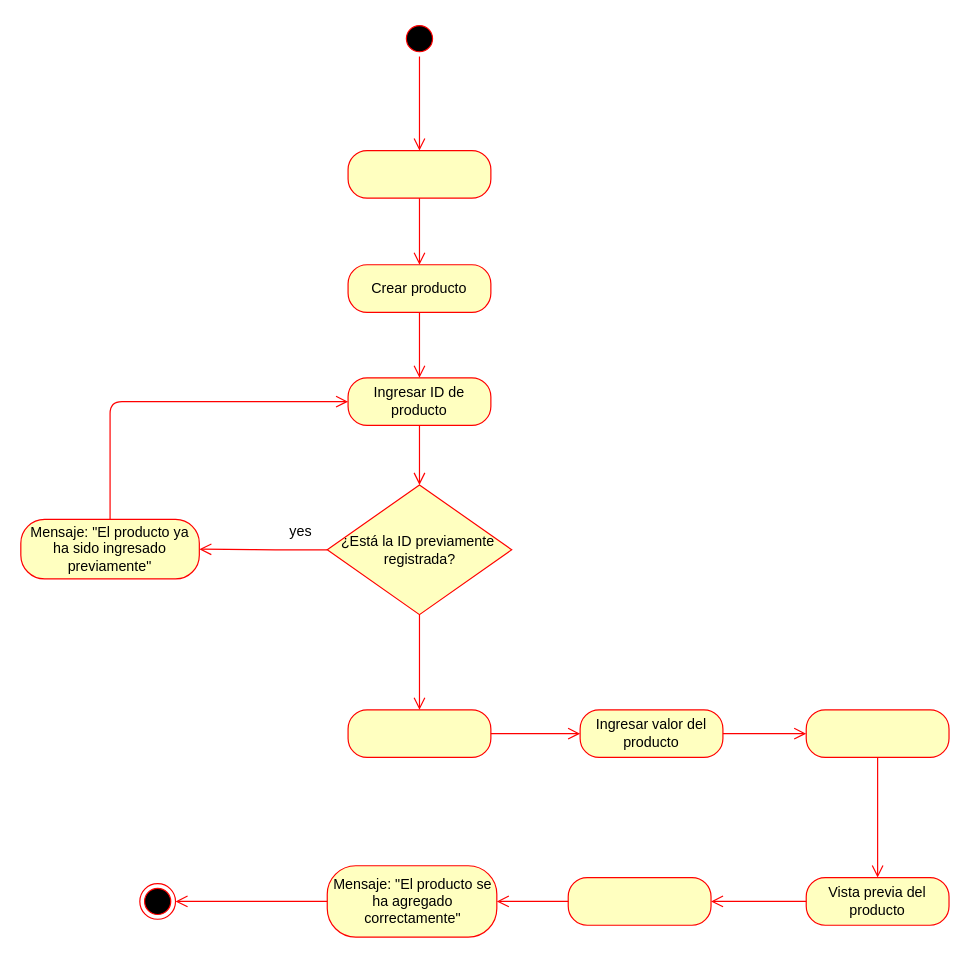
Image size: 970x958. Some labels were removed from this diagram. Each missing label, with the box of its shape:
Agregar producto: (567, 876, 711, 925)
Añadir imagen del producto: (805, 709, 949, 757)
Ingresar datos del producto: (347, 709, 491, 757)
Iniciar sesión como administrador: (347, 149, 491, 198)
